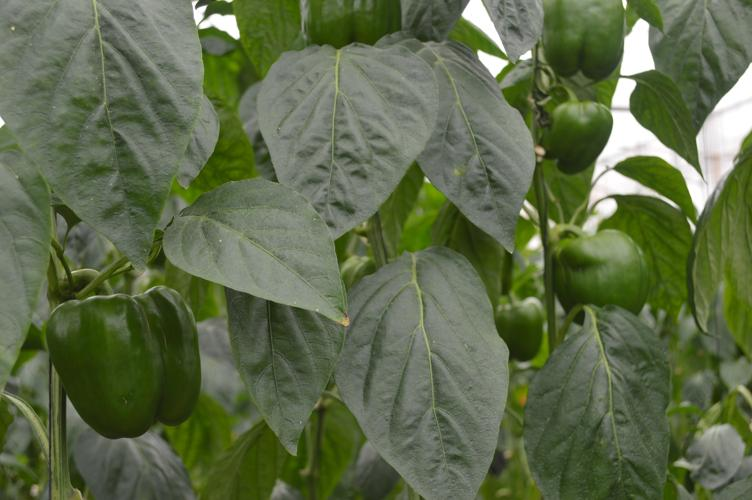BellPepper: (46, 298, 205, 435), (549, 223, 656, 333), (544, 1, 631, 84), (538, 98, 614, 183), (496, 295, 543, 364)
